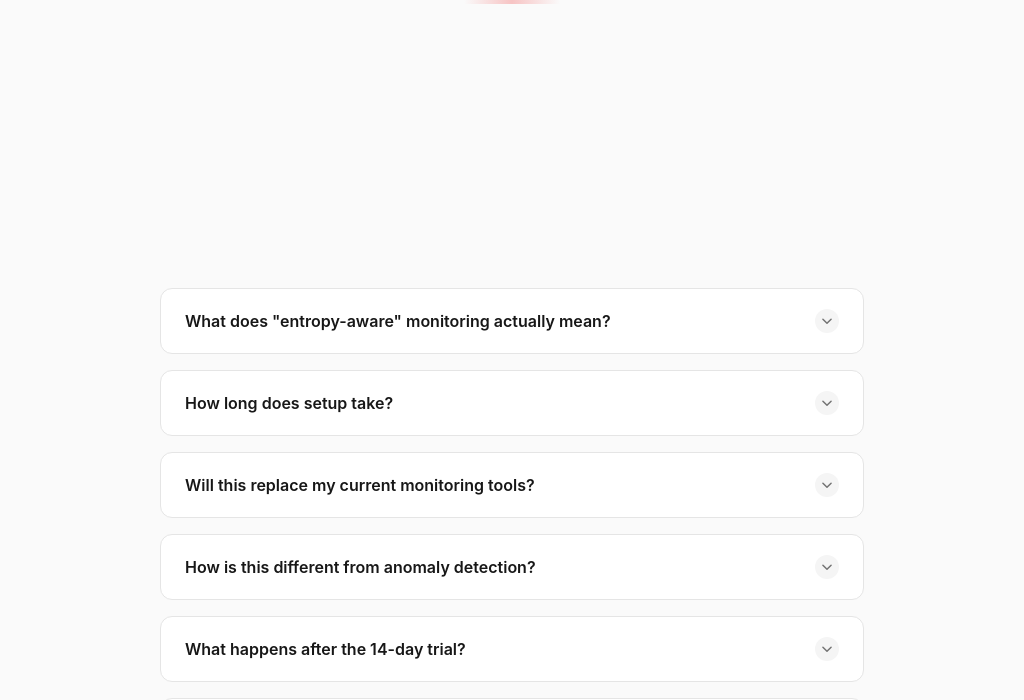
Test: Improvement: FAQ keyboard accessibility › opening one item closes another (single-open accordion)
The width and height of the screenshot is (1024, 700).
Click the button "What does \"entropy-aware\" monitoring actually mean?" at [512, 321], box left=161, top=289, right=863, bottom=353
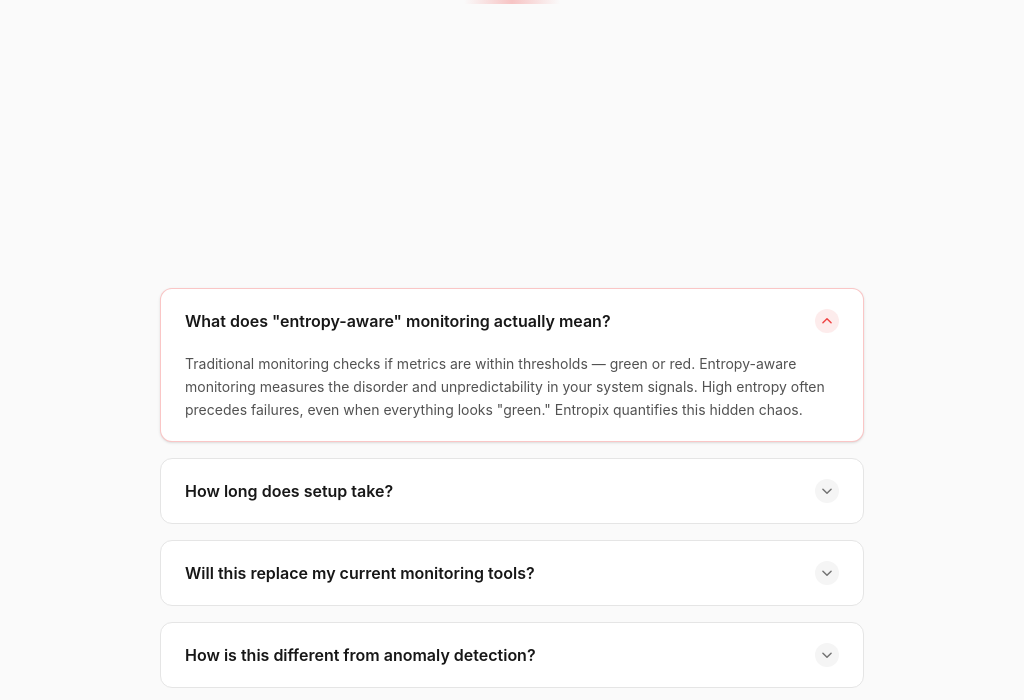
Now the button "What does \"entropy-aware\" monitoring actually mean?" is expanded, box left=161, top=289, right=863, bottom=353
Click the button "How long does setup take?" at [289, 491], box left=161, top=459, right=863, bottom=523
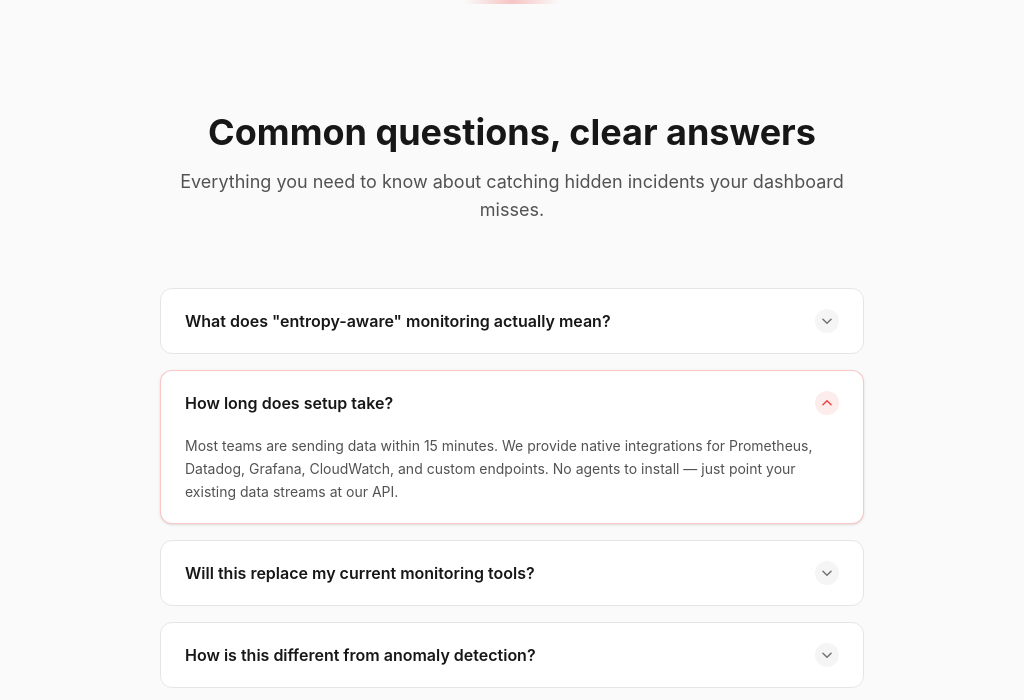
Now the button "What does \"entropy-aware\" monitoring actually mean?" is collapsed, box left=161, top=289, right=863, bottom=353
Now the button "How long does setup take?" is expanded, box left=161, top=371, right=863, bottom=435
